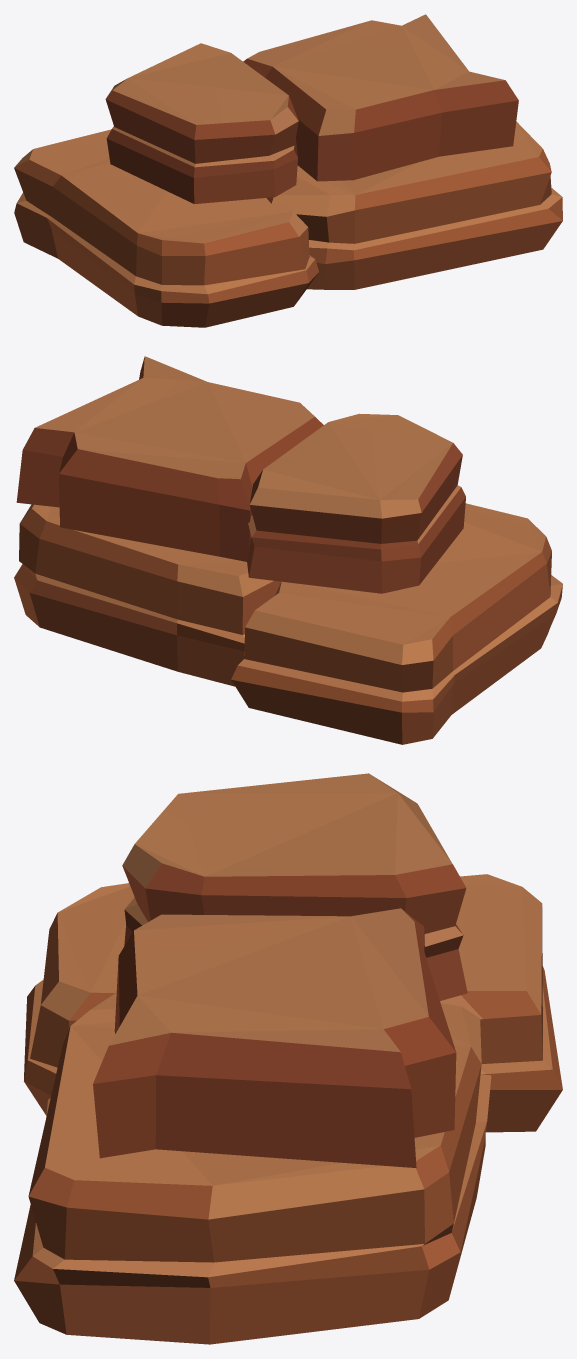
Rendered from sandstone_c.glb.
The picture shows the model from 3 angles, top to bottom: view 1: azimuth 30°, elevation 25°; view 2: azimuth 150°, elevation 25°; view 3: azimuth 270°, elevation 25°; orthographic projection. The views are drawn at different scales.
Visible parts, largest first — view 1: sandstone_c; view 2: sandstone_c; view 3: sandstone_c.
Boxes of the visible parts, x1,y1,x2,y2 form: sandstone_c: [14, 14, 562, 327]; sandstone_c: [14, 356, 562, 744]; sandstone_c: [14, 773, 562, 1344].
Bounding box in the file's own units: 10.61 × 4.13 × 7.25.
